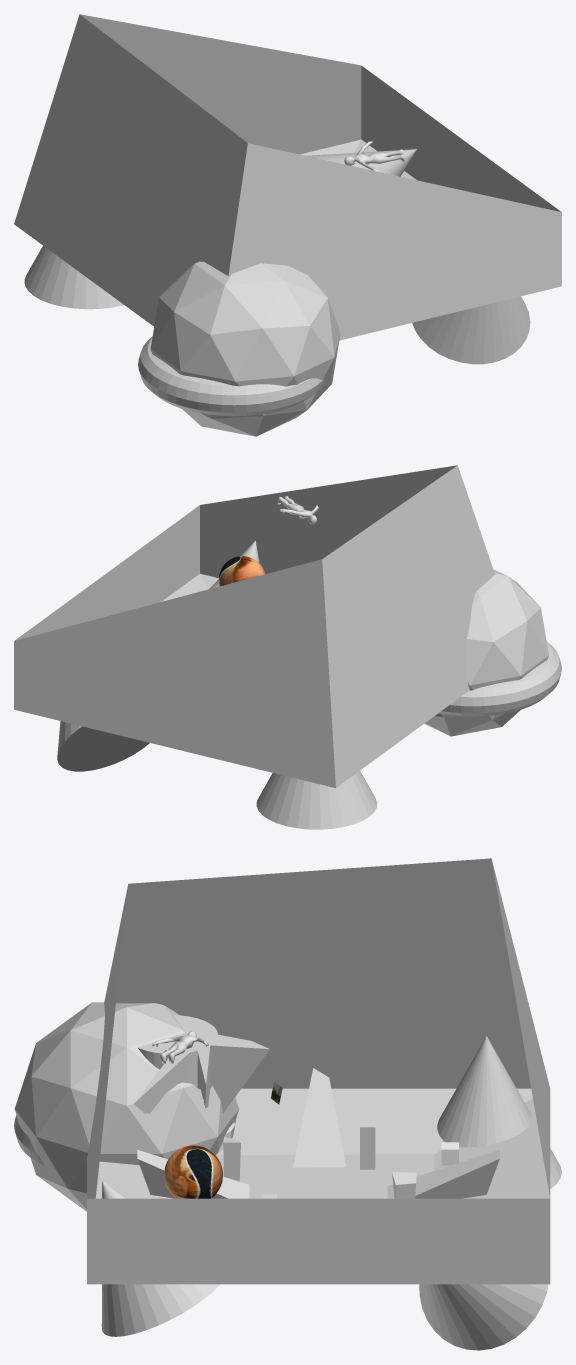
File: map.glb
3 views of the same model, one above another, from view 1: azimuth 30°, elevation 25°; view 2: azimuth 150°, elevation 25°; view 3: azimuth 270°, elevation 25° (orthographic). The views are drawn at different scales.
Parts seen in each view (by area): view 1: Plane-col, FM-lowpoly; view 2: Plane-col, Cone, FM-lowpoly; view 3: Plane-col, Cone, FM-lowpoly.
Part boxes in pixels (box(x1,y1,x2,y2)): Plane-col: box(14, 14, 561, 436); FM-lowpoly: box(344, 141, 404, 171); Plane-col: box(14, 465, 561, 829); Cone: box(219, 556, 265, 586); FM-lowpoly: box(277, 496, 318, 524); Plane-col: box(14, 858, 561, 1350); Cone: box(164, 1145, 222, 1198); FM-lowpoly: box(152, 1031, 208, 1063).
Size of the model in its own units: 674 by 491 by 702.
5 materials, 3 textured.
